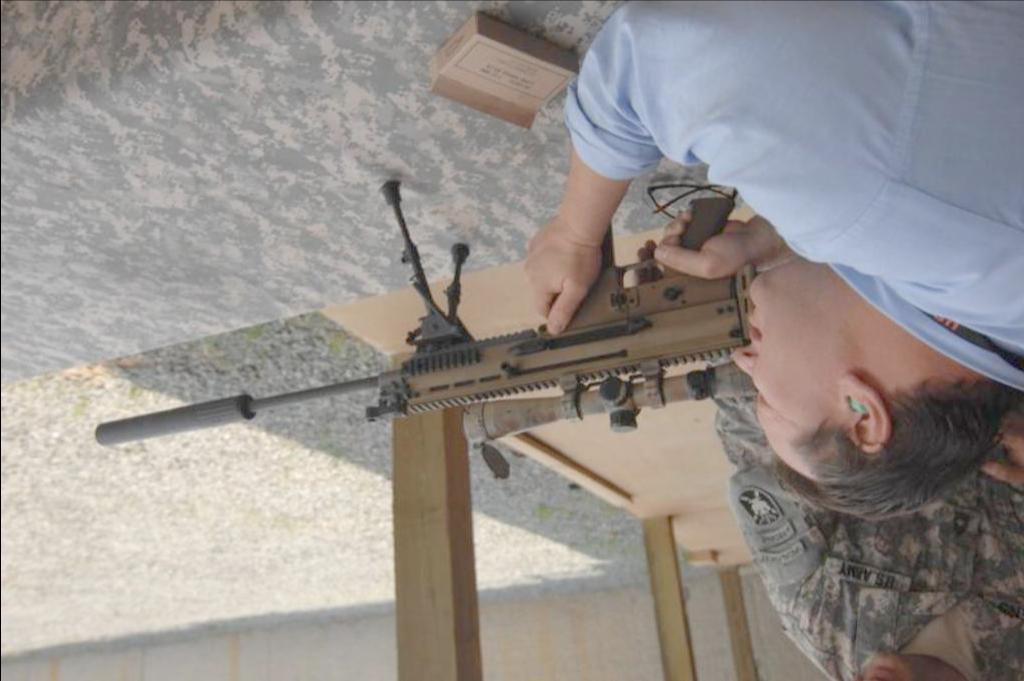gun: (93, 181, 760, 453)
